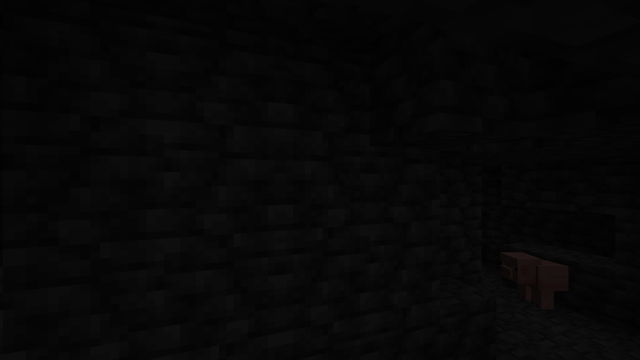cochons: (512, 254, 575, 315)
